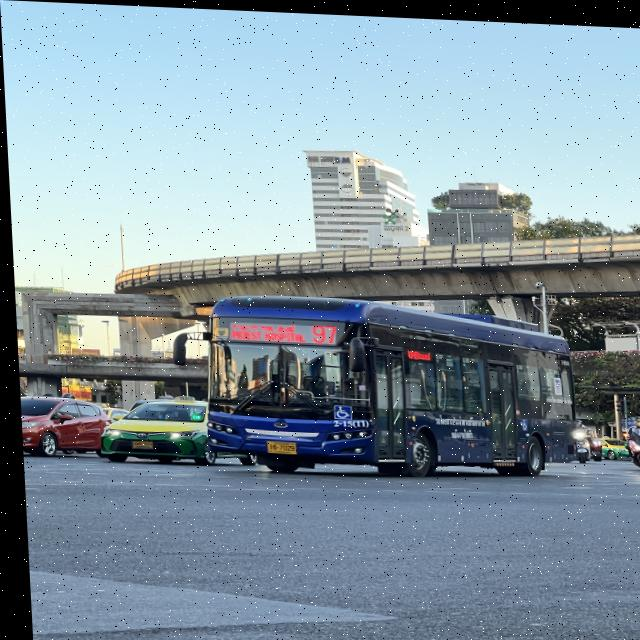Bus Line Number: (307, 319, 336, 343)
Bus Side Number: (327, 414, 366, 428)
Destination Sign: (224, 315, 308, 342)
TSB-Bus: (201, 293, 571, 473)
